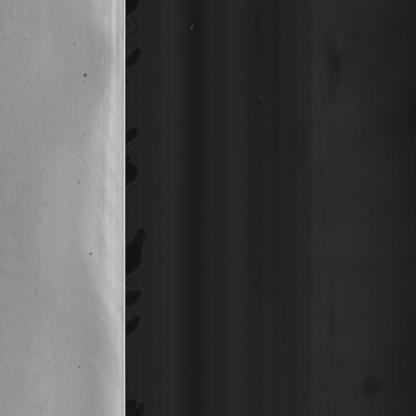inclusion: (81, 247, 93, 270), (80, 62, 90, 81)
silk_spot: (0, 20, 53, 393)
